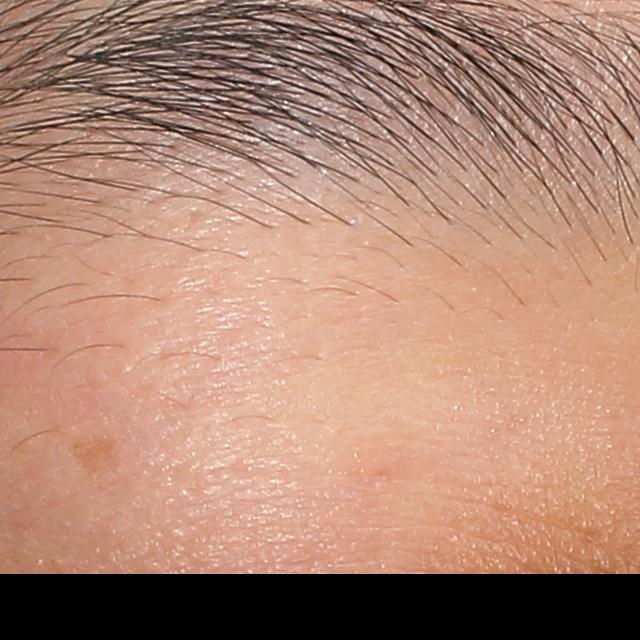melasma: (66, 434, 133, 479)
